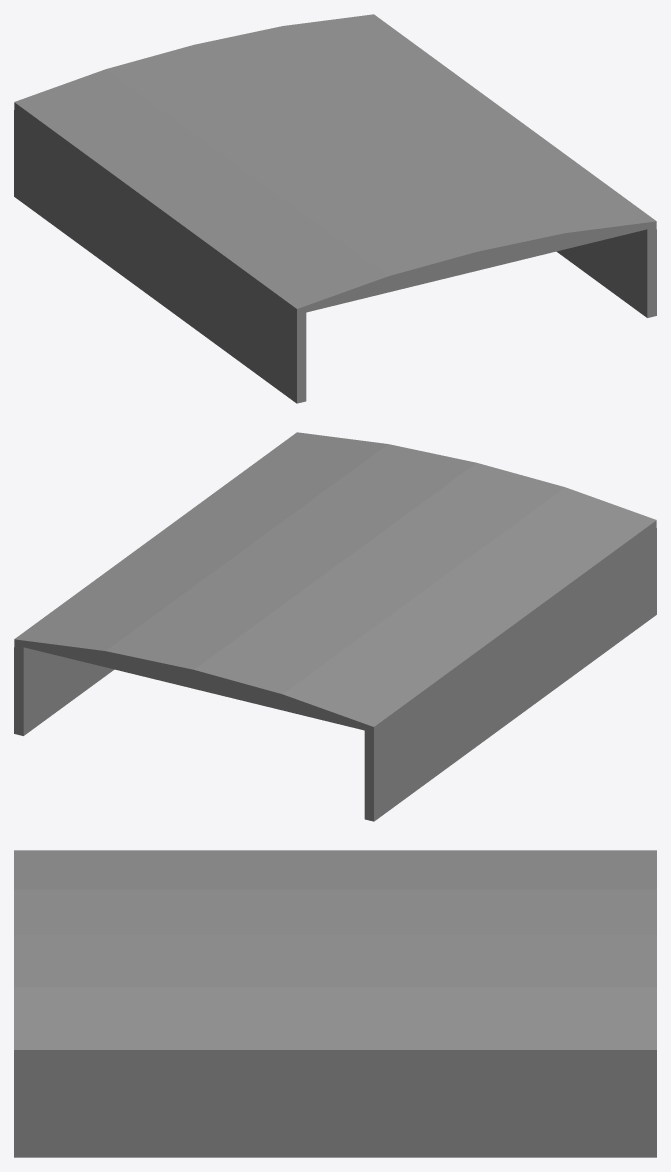
File: Itr_Bed_Single_Blanket_05.FBX
3 renders of one model, top to bottom at view 1: azimuth 30°, elevation 25°; view 2: azimuth 150°, elevation 25°; view 3: azimuth 270°, elevation 25°, orthographic. The views are drawn at different scales.
Visible parts, largest first — view 1: Itr_Bed_Single_Blanket_05; view 2: Itr_Bed_Single_Blanket_05; view 3: Itr_Bed_Single_Blanket_05.
Boxes of the visible parts, x1,y1,x2,y2 form: Itr_Bed_Single_Blanket_05: (14,14,656,403); Itr_Bed_Single_Blanket_05: (14,432,656,821); Itr_Bed_Single_Blanket_05: (14,850,656,1157).
Bounding box in the file's own units: 47.68 × 13.65 × 64.86.
